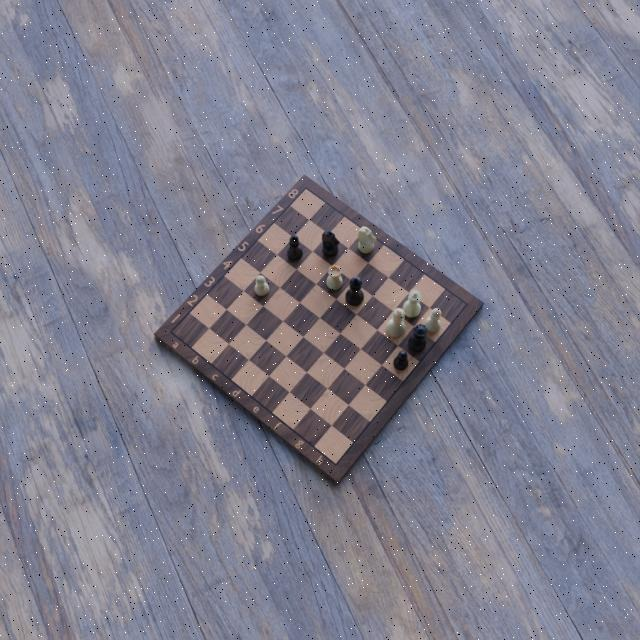black-bishop: (285, 233, 303, 260)
black-king: (345, 275, 365, 307)
black-knight: (322, 230, 340, 258)
black-pawn: (393, 349, 410, 372)
black-queen: (407, 323, 428, 353)
white-bishop: (424, 306, 441, 334)
white-king: (386, 306, 406, 338)
white-knight: (356, 225, 376, 255)
white-pawn: (254, 275, 270, 298)
white-queen: (402, 288, 422, 319)
white-rook: (325, 265, 344, 291)
